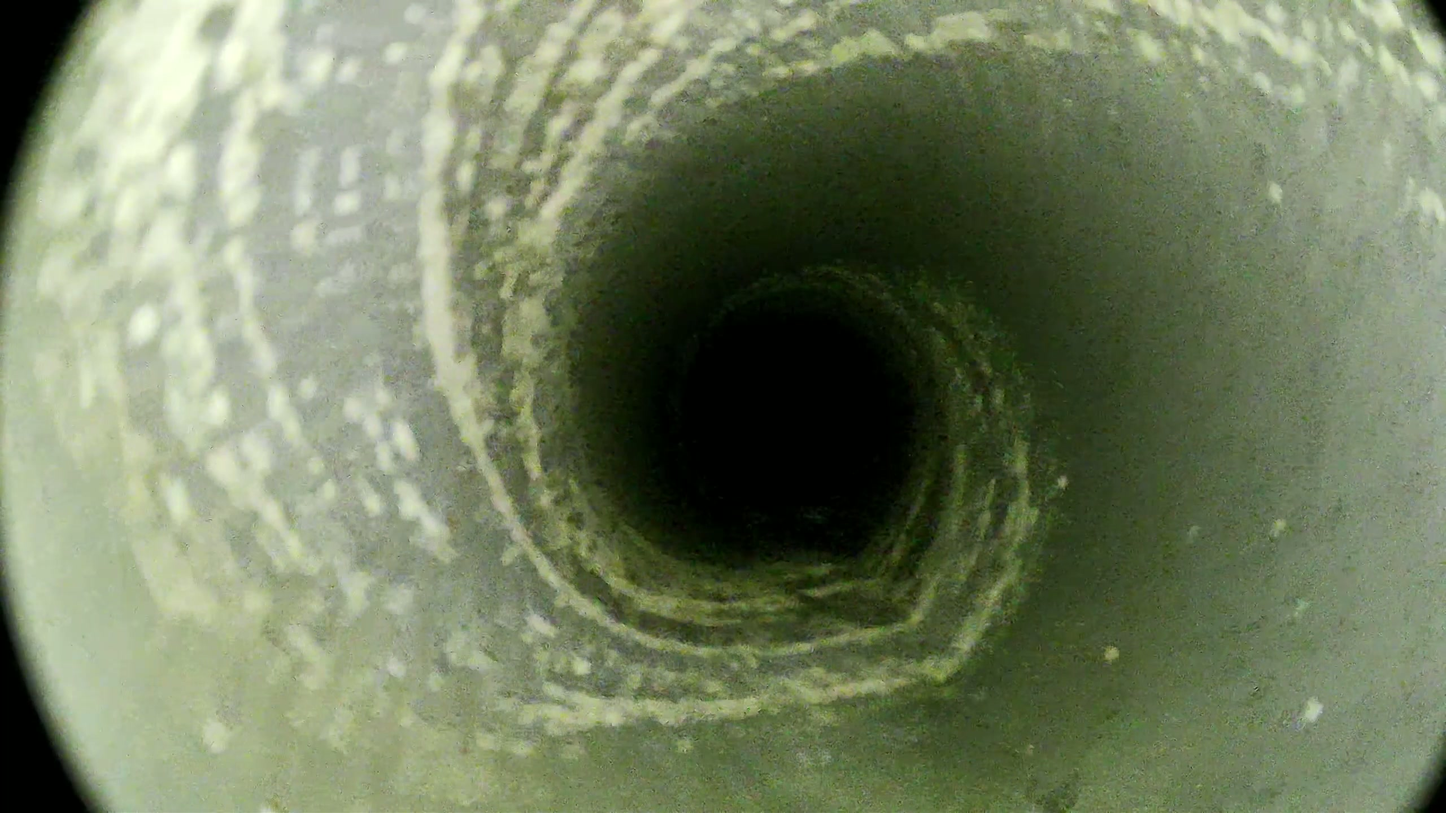hole: (686, 318, 889, 509)
